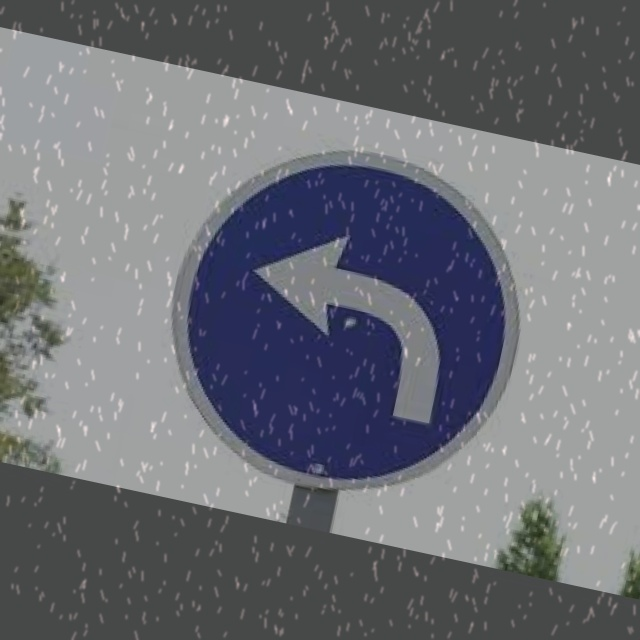Compulsory_Turn_Left_Ahead: (147, 117, 548, 520)
